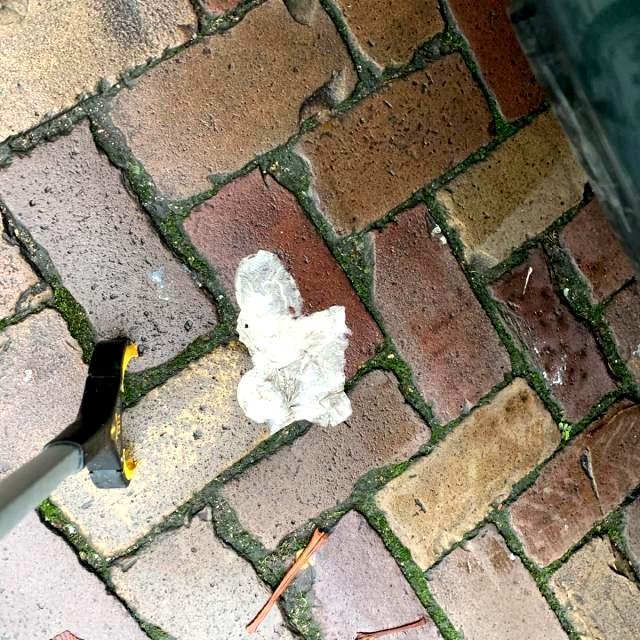Paper: (233, 248, 354, 437)
